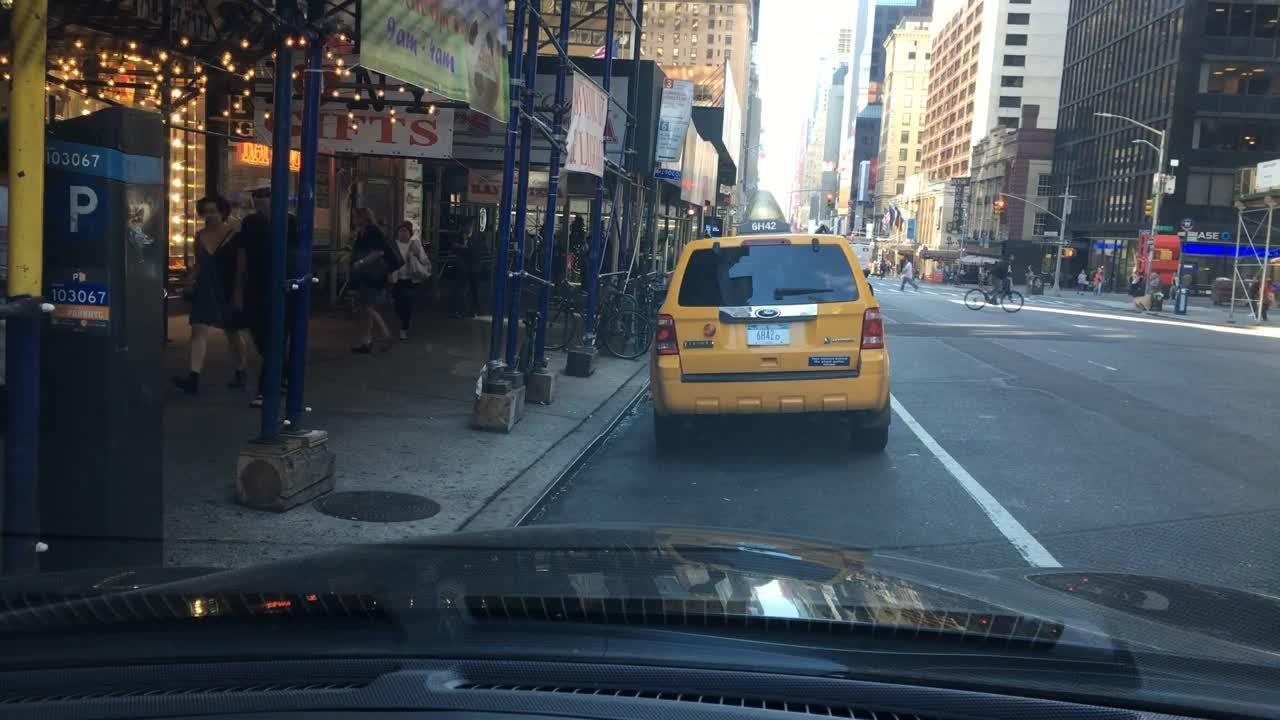ford: (752, 305, 783, 324)
